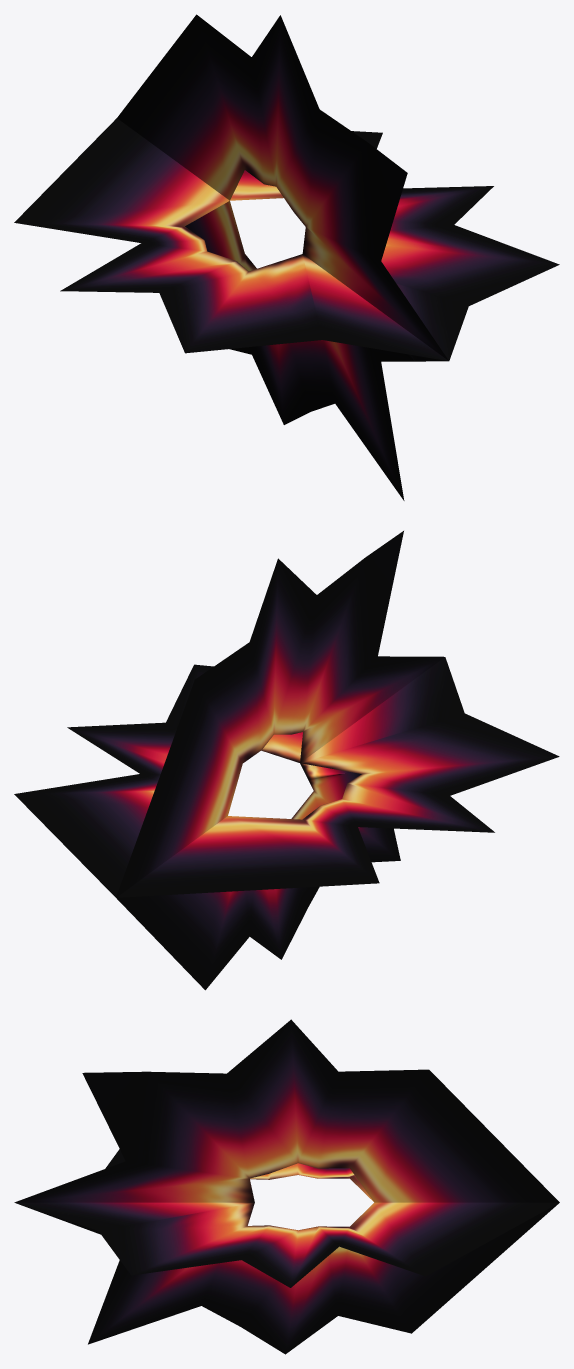
The model's file is linghunfuwenmobangw002.fbx.
3 views of the same model, one above another, from view 1: azimuth 30°, elevation 25°; view 2: azimuth 150°, elevation 25°; view 3: azimuth 270°, elevation 25° (orthographic). The views are drawn at different scales.
Visible parts, largest first — view 1: linghunfuwenmobangw002; view 2: linghunfuwenmobangw002; view 3: linghunfuwenmobangw002.
Boxes of the visible parts, x1,y1,x2,y2 form: linghunfuwenmobangw002: [14, 14, 559, 500]; linghunfuwenmobangw002: [14, 531, 559, 990]; linghunfuwenmobangw002: [14, 1019, 559, 1354].
Bounding box in the file's own units: 192 × 173 × 255.
1 material, 1 textured.
